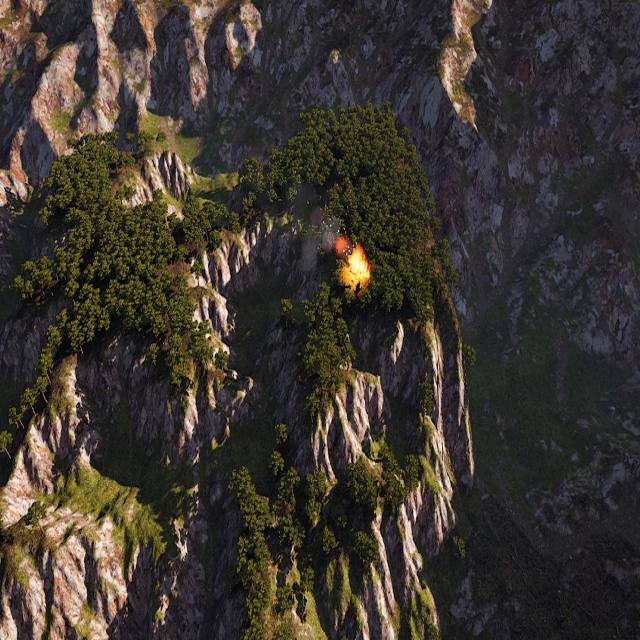fire: (346, 247, 370, 284)
smoke: (293, 190, 351, 268)
